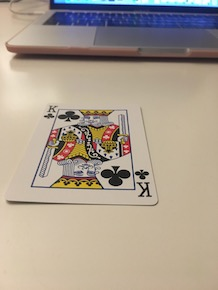KingOfClubs: (4, 94, 164, 209)
